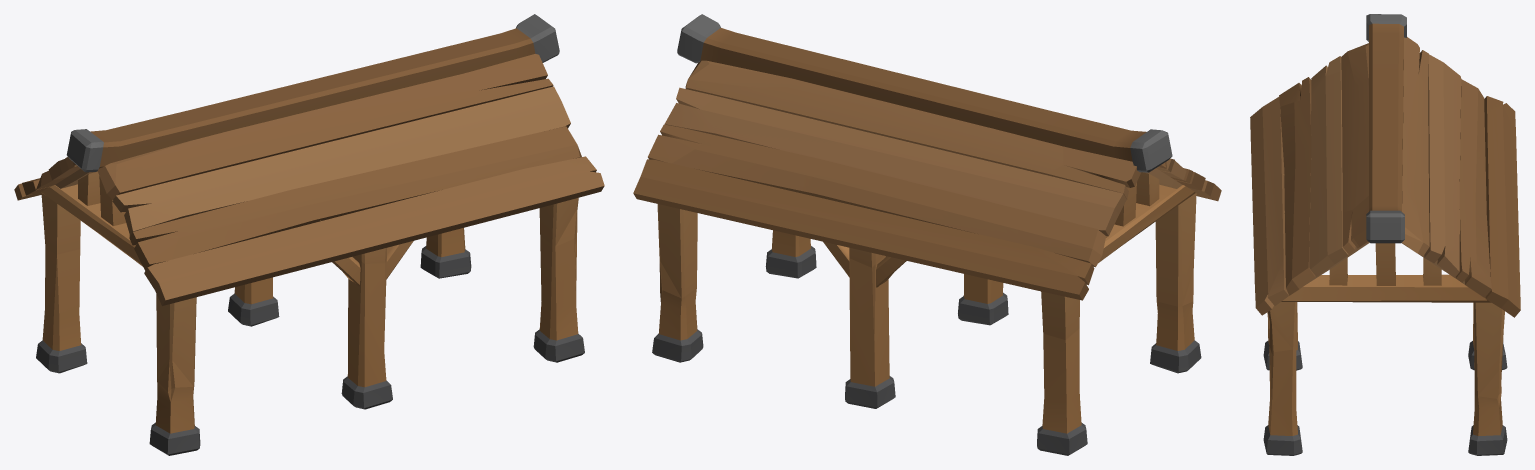
The model's file is Market_A.fbx.
The picture shows the model from 3 angles, left to right: view 1: azimuth 30°, elevation 25°; view 2: azimuth 150°, elevation 25°; view 3: azimuth 270°, elevation 25°; orthographic projection. The views are drawn at different scales.
Visible parts, largest first — view 1: Market_A; view 2: Market_A; view 3: Market_A.
Boxes of the visible parts, box(x1,y1,x2,y2) form: Market_A: box(14, 14, 604, 455); Market_A: box(633, 14, 1221, 455); Market_A: box(1250, 14, 1520, 455).
Size of the model in its own units: 848 by 476 by 461.
